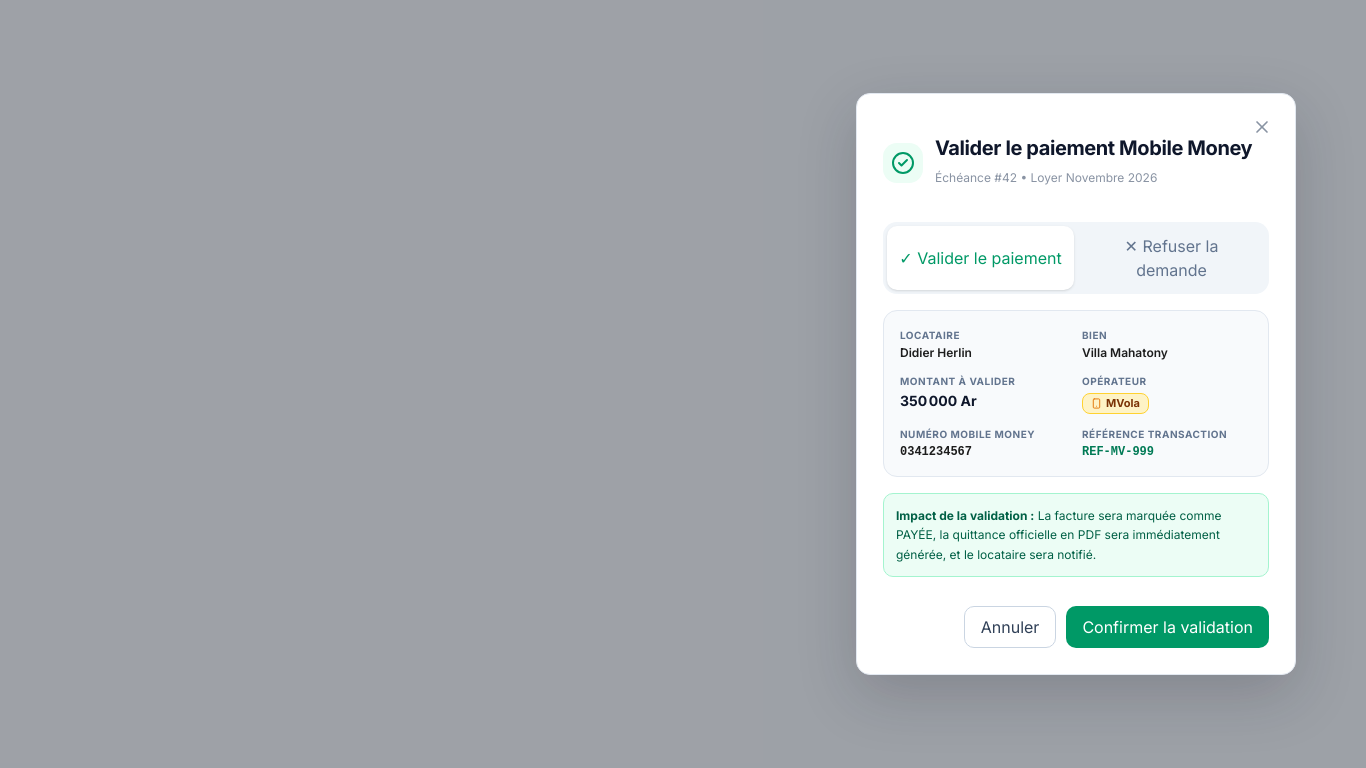
Test: ValidationDemandeModal › permet de basculer en refus et d’envoyer le motif de refus
This screenshot has width=1366, height=768.
Later steps or results of the test are not shown.
Click the button "✕ Refuser la demande" at (1172, 258), box [1078, 226, 1265, 290]
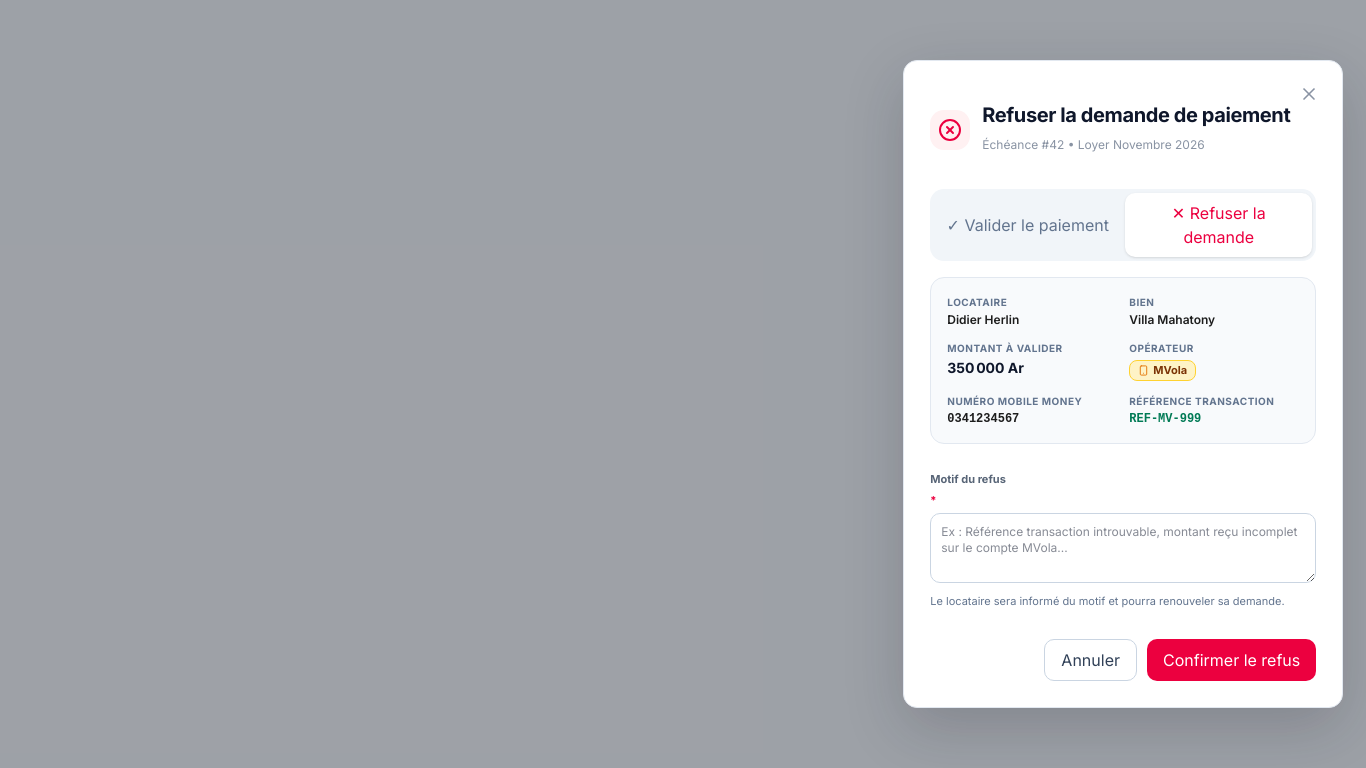
Result: the text "Motif du refus *" is shown at [930, 472, 1006, 507]
